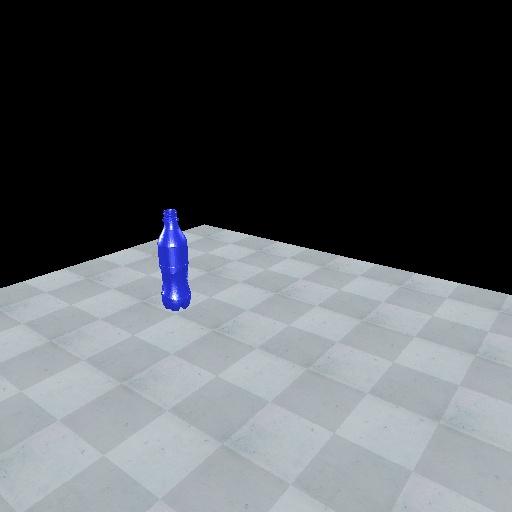bottle: (155, 207, 193, 314)
